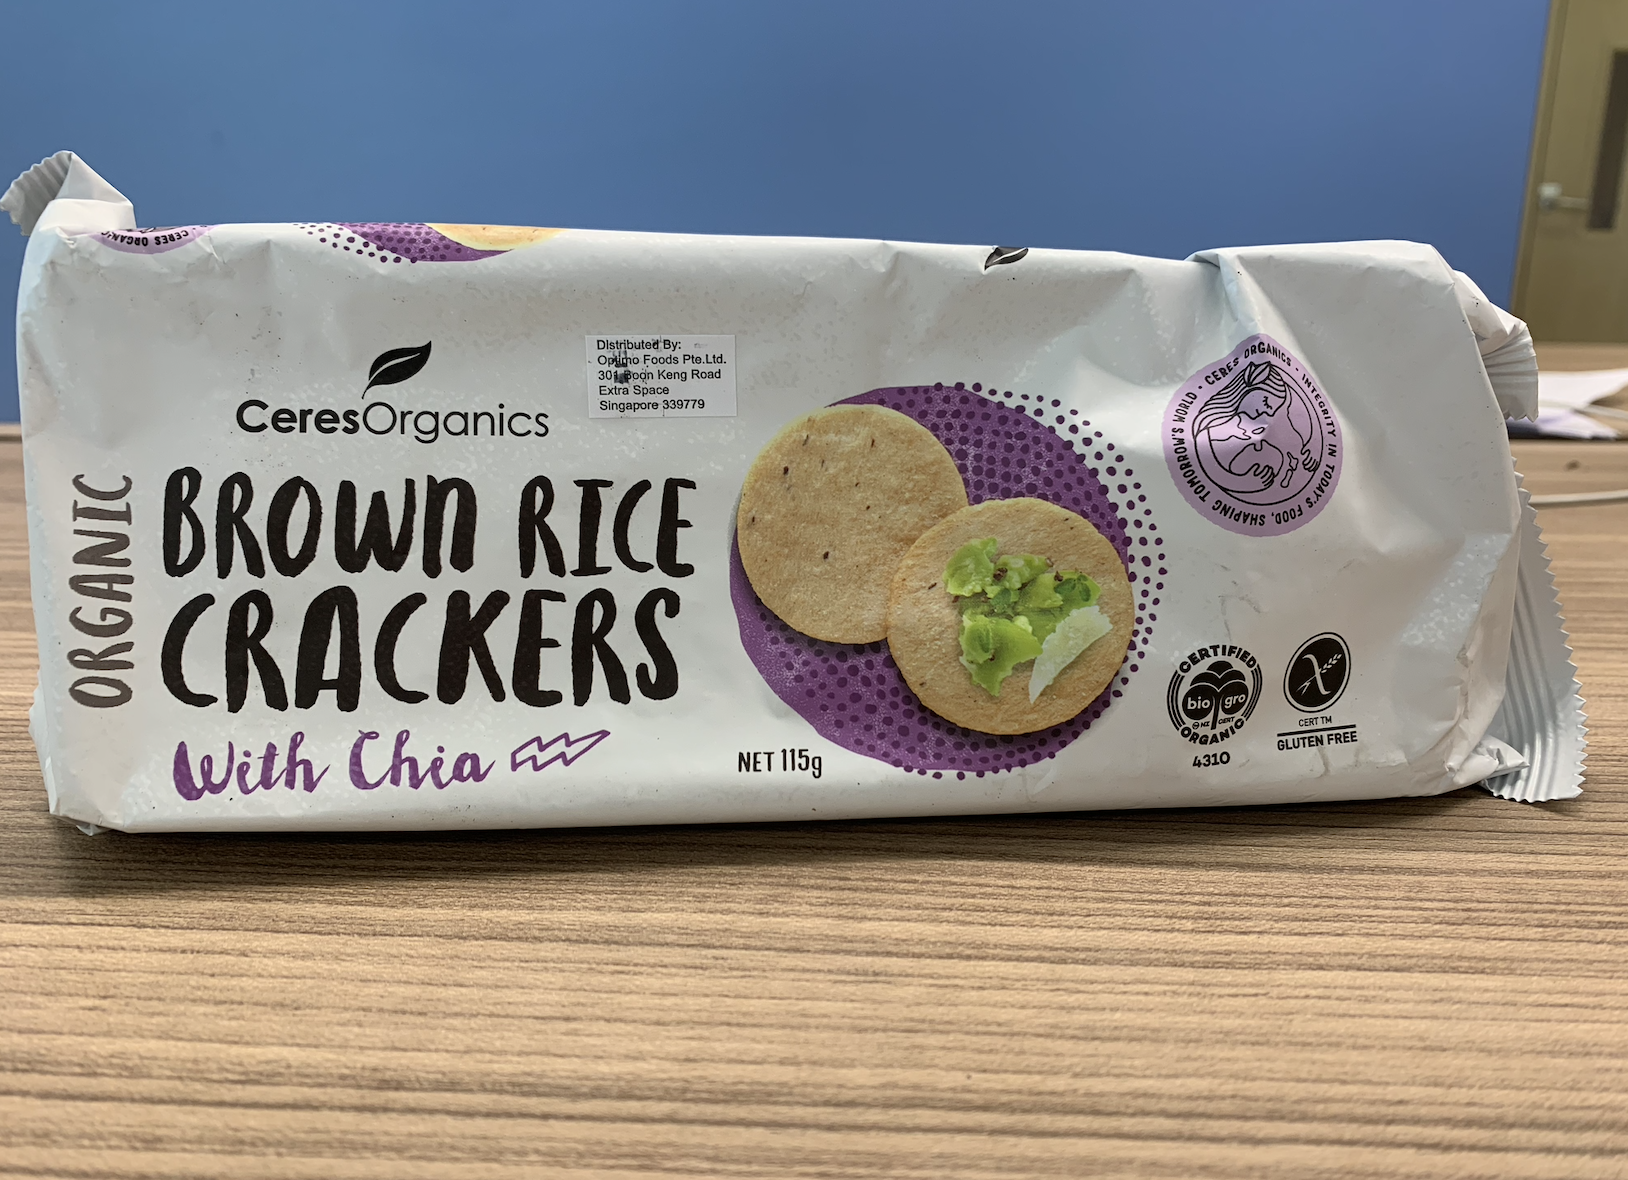crackers_150g: (56, 244, 1435, 786)
